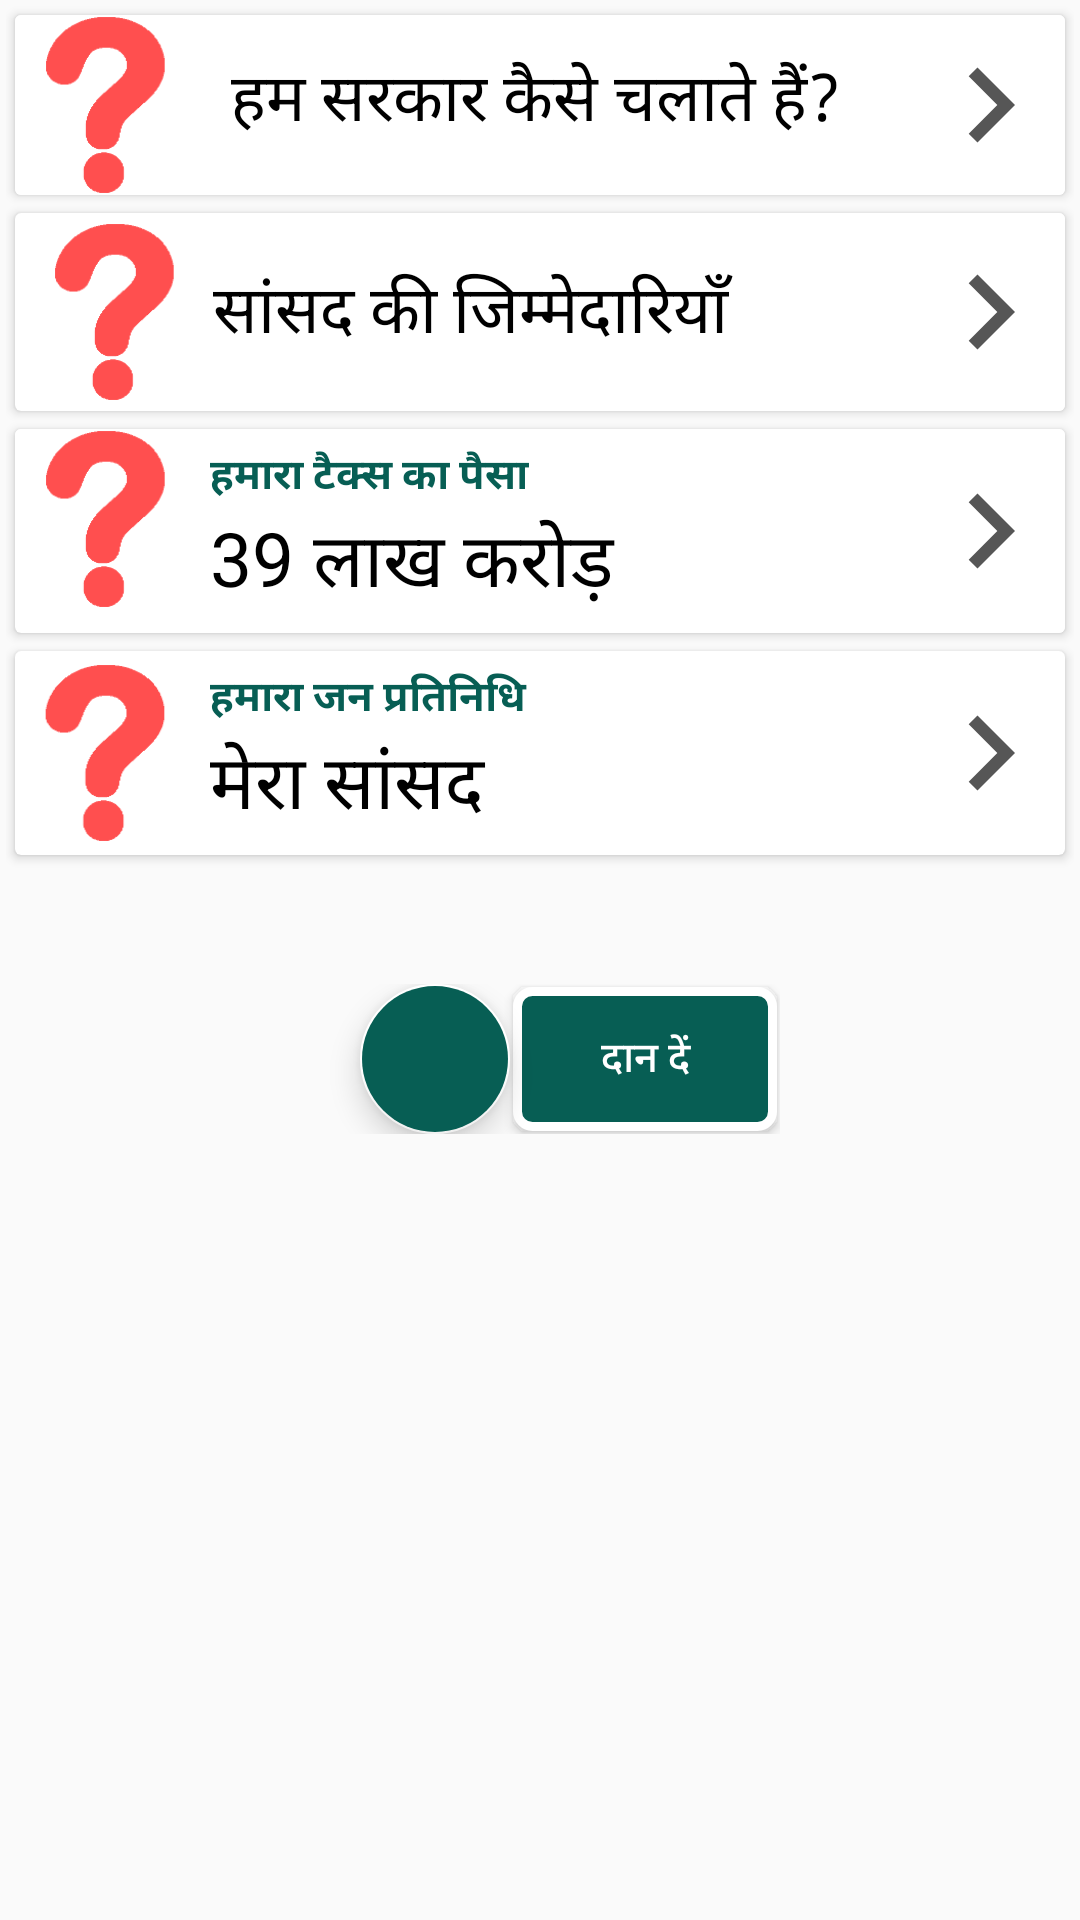

Screen size 1080×1920. Icon name, then its center in pixels as [x,y]:
issues: [105,105], [114,312], [105,519], [105,753]
